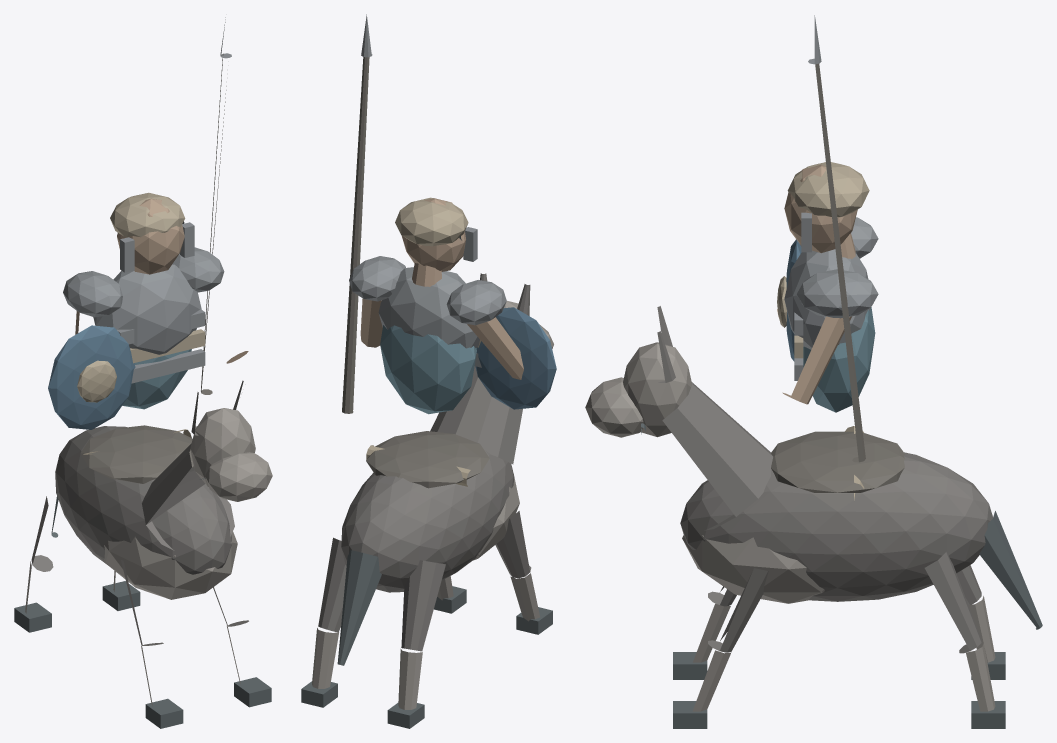
File: enemy-heavy.glb
3 renders of one model, left to right at view 1: azimuth 30°, elevation 25°; view 2: azimuth 150°, elevation 25°; view 3: azimuth 270°, elevation 25°, orthographic. The views are drawn at different scales.
Visible parts, largest first — view 1: world; view 2: world; view 3: world.
Part boxes in pixels (x1,y1,x2,y2): world: (14, 17, 272, 728); world: (301, 14, 556, 728); world: (585, 15, 1042, 728).
Bounding box in the file's own units: 15.94 × 48.78 × 27.91.
